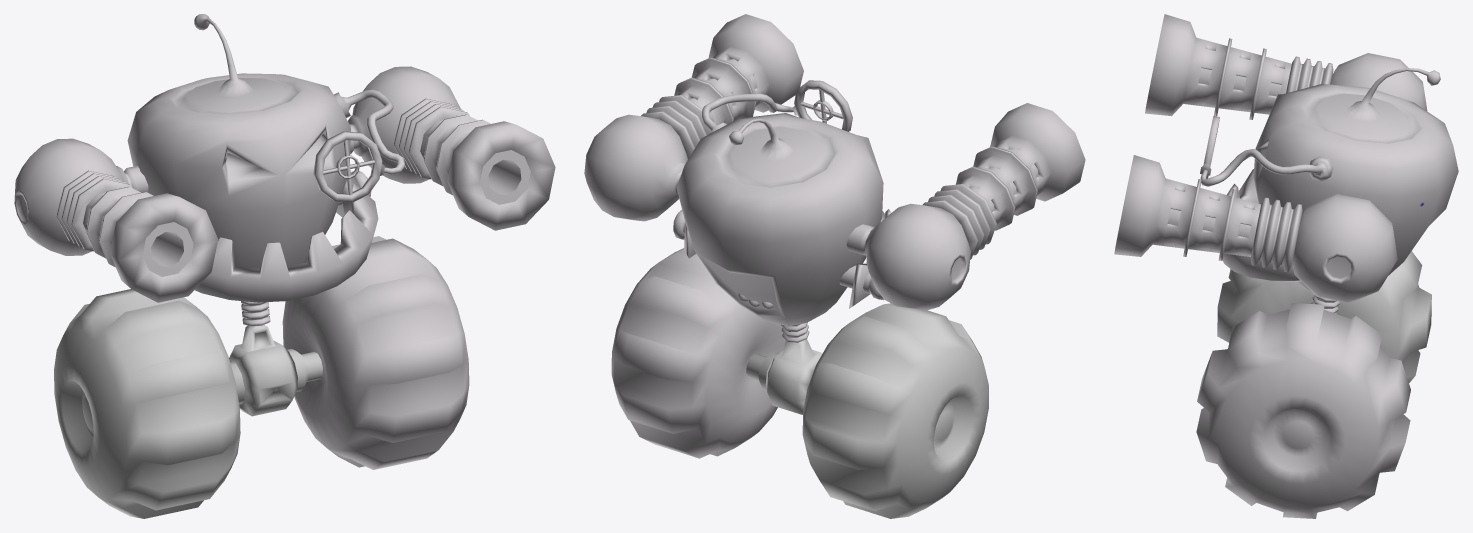
The model's file is attackBot.fbx.
The picture shows the model from 3 angles, left to right: view 1: azimuth 30°, elevation 25°; view 2: azimuth 150°, elevation 25°; view 3: azimuth 270°, elevation 25°; orthographic projection. The views are drawn at different scales.
Parts seen in each view (by area): view 1: node_id6, node_id8, node_id12, node_id4, node_id10; view 2: node_id8, node_id6, node_id12, node_id4, node_id10; view 3: node_id4, node_id8, node_id6, node_id12.
Part boxes in pixels (<box>): node_id6: <box>127,14,405,326</box>; node_id8: <box>14,66,555,302</box>; node_id12: <box>54,289,240,518</box>; node_id4: <box>282,236,469,469</box>; node_id10: <box>229,325,322,416</box>; node_id8: <box>584,14,1085,310</box>; node_id6: <box>673,80,891,342</box>; node_id12: <box>802,303,988,518</box>; node_id4: <box>611,248,785,458</box>; node_id10: <box>746,339,822,414</box>; node_id4: <box>1196,303,1410,518</box>; node_id8: <box>1114,14,1427,302</box>; node_id6: <box>1200,68,1458,313</box>; node_id12: <box>1217,251,1431,382</box>.
Bounding box in the file's own units: 0.5358 × 0.4978 × 0.3945.
5 materials, 3 textured.
